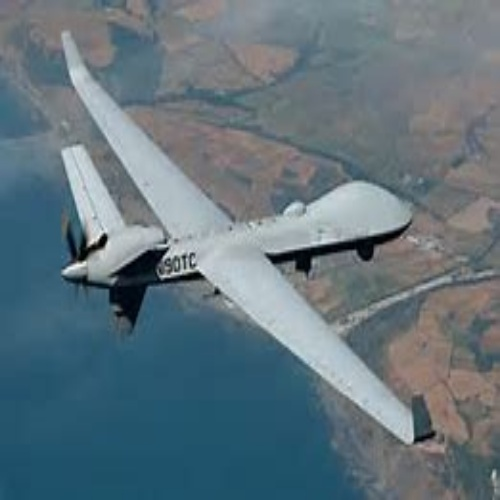uav586: (52, 30, 440, 446)
